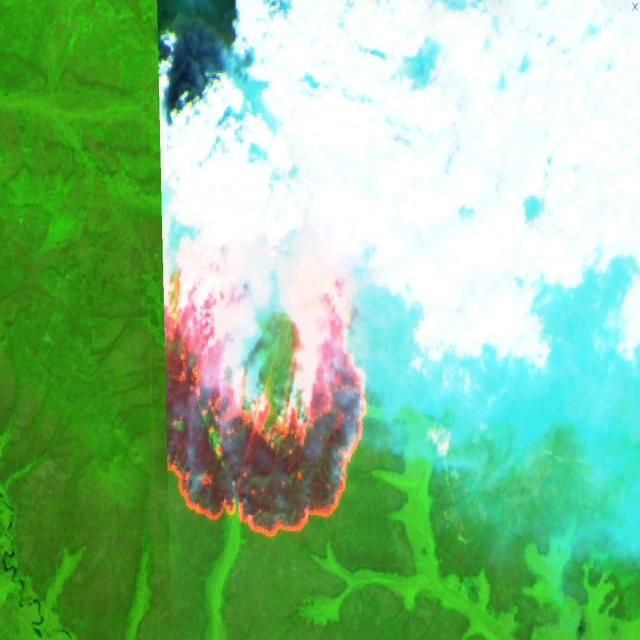fire: (161, 230, 374, 547)
